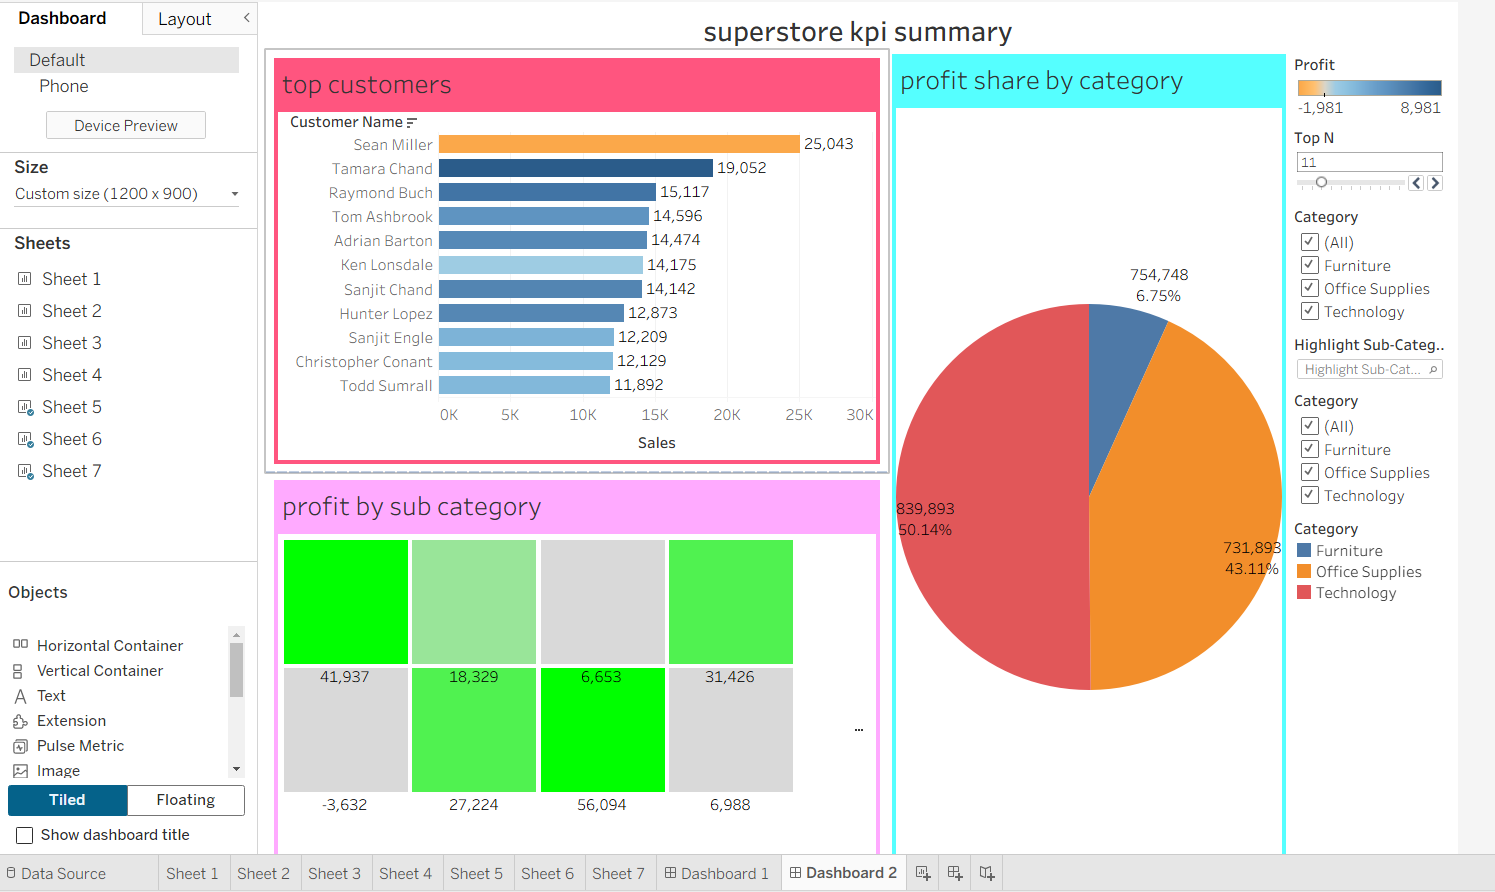

Layout of this report page (visuals, bound fields, positions):
{"tool":"tableau","page":{"name":"Dashboard 2","canvas":[1200,900],"ordinal":1},"visuals":[{"type":"text","box":[8,8,1184,40]},{"type":"worksheet","title":"Sheet 5","mark":"Automatic","rows":["Customer Name"],"cols":["Sales"],"box":[8,48,622,422]},{"type":"worksheet","title":"Sheet 7","mark":"Pie","box":[630,48,402,844]},{"type":"legend","title":"Sheet 5","param":"[Sample - Superstore].[sum:Profit:qk]","box":[1032,48,160,73]},{"type":"parameter","param":"[Parameters].[Top Customers (copy)]","box":[1032,121,160,79]},{"type":"filter","title":"Sheet 6","param":"[Sample - Superstore].[none:Category:nk]","box":[1032,200,160,128]},{"type":"highlighter","title":"Sheet 6","param":"[Sample - Superstore].[none:Sub-Category:nk]","box":[1032,328,160,56]},{"type":"filter","title":"Sheet 7","param":"[Sample - Superstore].[none:Category:nk]","box":[1032,384,160,128]},{"type":"worksheet","title":"Sheet 6","mark":"Square","box":[8,470,622,422]},{"type":"legend","title":"Sheet 7","param":"[Sample - Superstore].[none:Category:nk]","box":[1032,512,160,93]}]}

Visuals, with their boxes on the page's 1200x900 design canvas (x1, y1, x2, y2). These are canvas units, not pixel positions in the 1495x892 screenshot, which may show the page scaled, cropped or inside an application window:
text: Rect(8, 8, 1192, 48)
"Sheet 5" worksheet: Rect(8, 48, 630, 470)
"Sheet 7" worksheet (Pie marks): Rect(630, 48, 1032, 892)
"Sheet 5" legend: Rect(1032, 48, 1192, 121)
parameter: Rect(1032, 121, 1192, 200)
"Sheet 6" filter: Rect(1032, 200, 1192, 328)
"Sheet 6" highlighter: Rect(1032, 328, 1192, 384)
"Sheet 7" filter: Rect(1032, 384, 1192, 512)
"Sheet 6" worksheet (Square marks): Rect(8, 470, 630, 892)
"Sheet 7" legend: Rect(1032, 512, 1192, 605)
